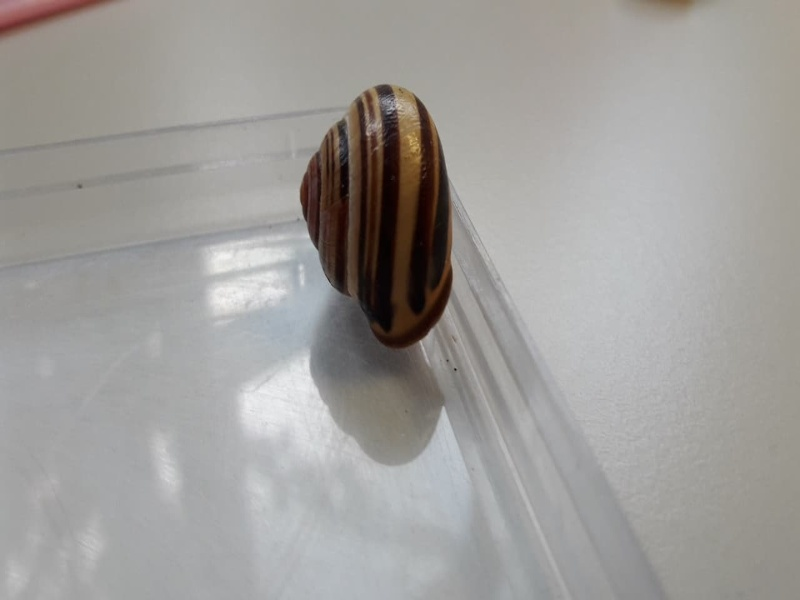snail_Y_B: (289, 79, 463, 354)
